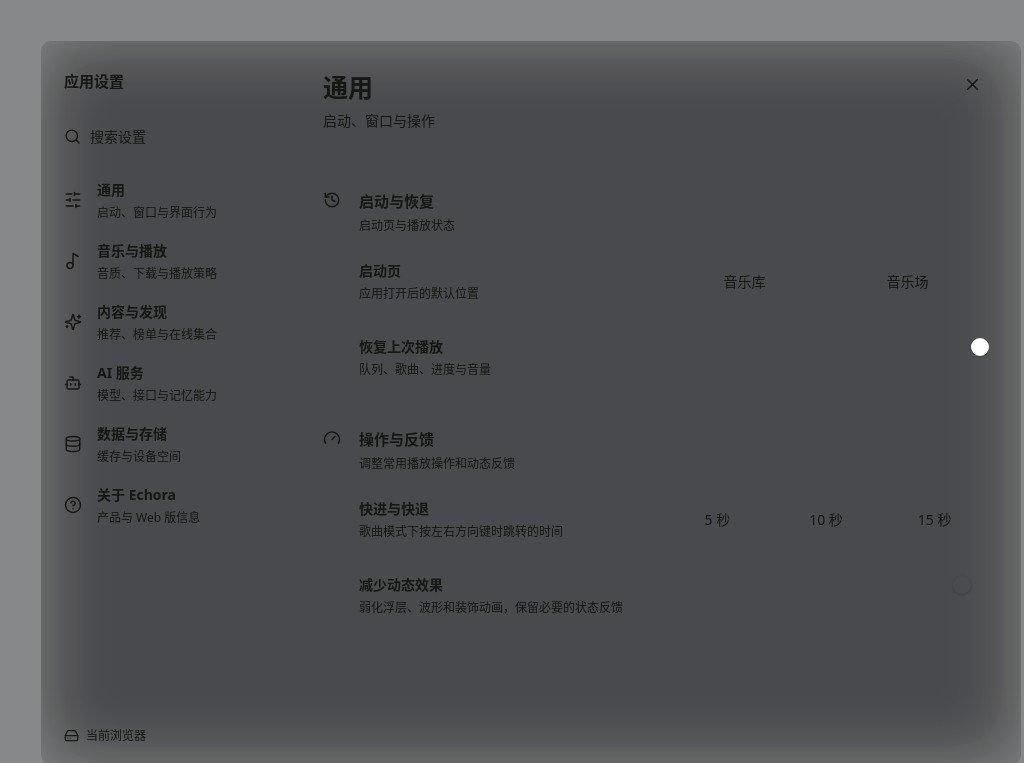
Test: SettingsPanel › exposes playback preferences without exposing source implementation details
The width and height of the screenshot is (1024, 763).
Click the button "音乐与播放 音质、下载与播放策略": click(167, 261) x1=54 y1=232 x2=280 y2=290
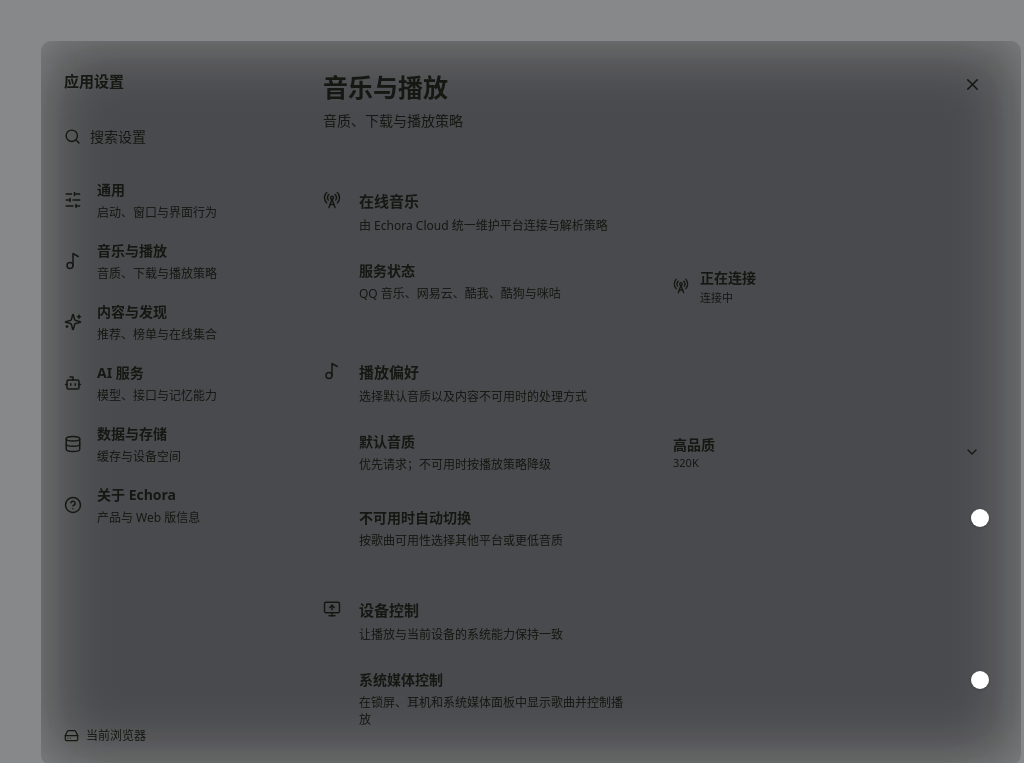
expect the heading "音乐与播放" is shown: met, box x1=323 y1=70 x2=448 y2=104
expect the text "由 Echora Cloud 统一维护平台连接与解析策略" is shown: met, box x1=359 y1=217 x2=608 y2=234
expect the dropdown named "默认音质" shows "高品质": met
Click the dropdown named "默认音质": click(694, 444) x1=661 y1=431 x2=991 y2=473
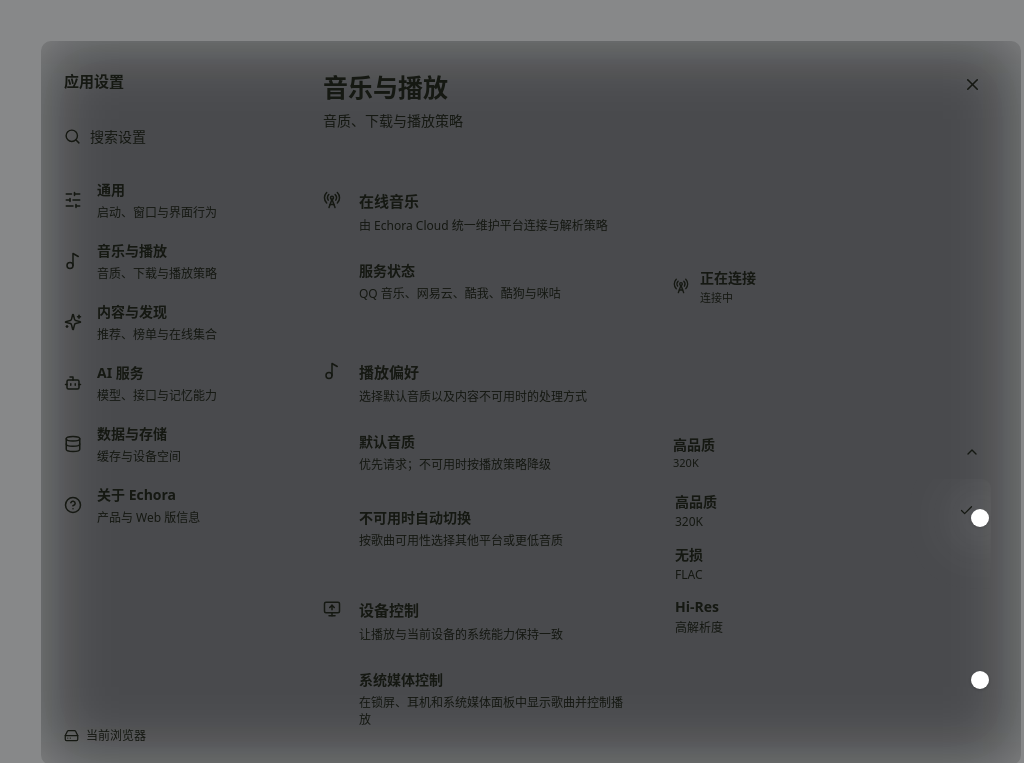
expect the option "无损 FLAC" is enabled: met, box x1=666 y1=537 x2=986 y2=590
expect the option "Hi-Res 高解析度" is enabled: met, box x1=666 y1=590 x2=986 y2=643
